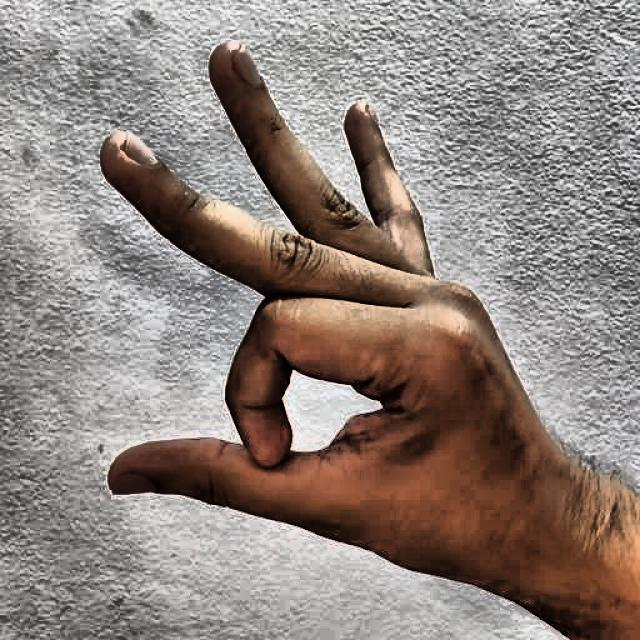Uo: (54, 29, 615, 612)
